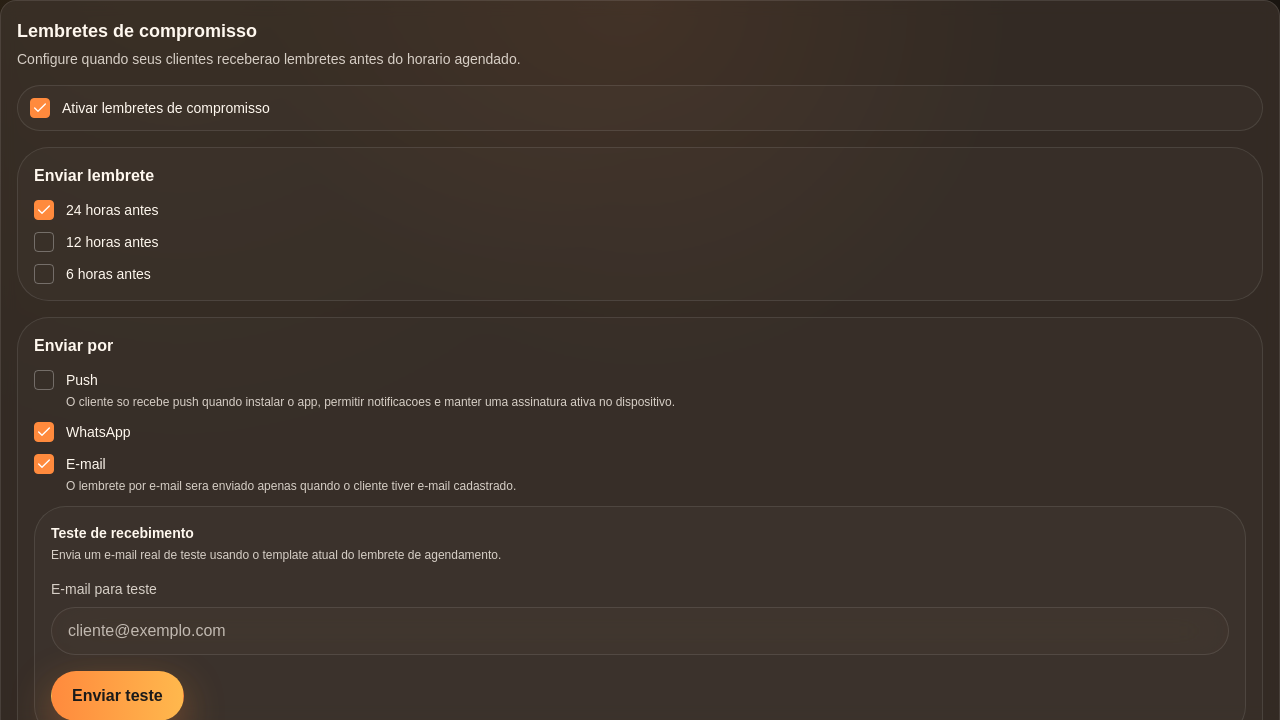
Test: BookingReminderConfig › validates recipient email before sending the test
Check: the heading "Lembretes de compromisso" is shown, box [17,21,257,41]
Click the button "Enviar teste": coordinates (117, 696) [51,671,184,719]
(page scrolled)
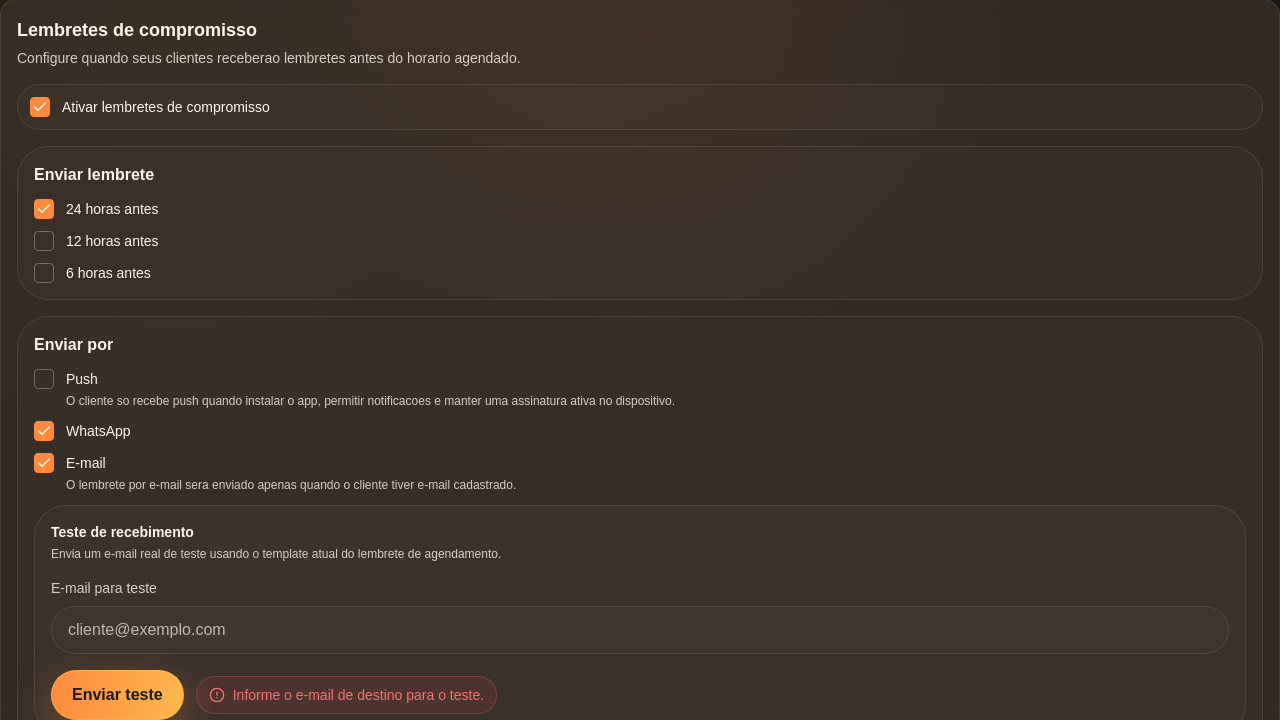
Check: the text "Informe o e-mail de destino para o teste." is shown, box [196,676,497,714]
